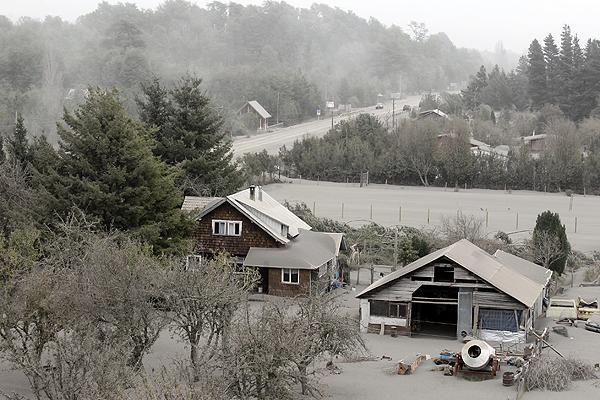affected: (164, 178, 353, 298)
minor: (355, 228, 555, 350)
